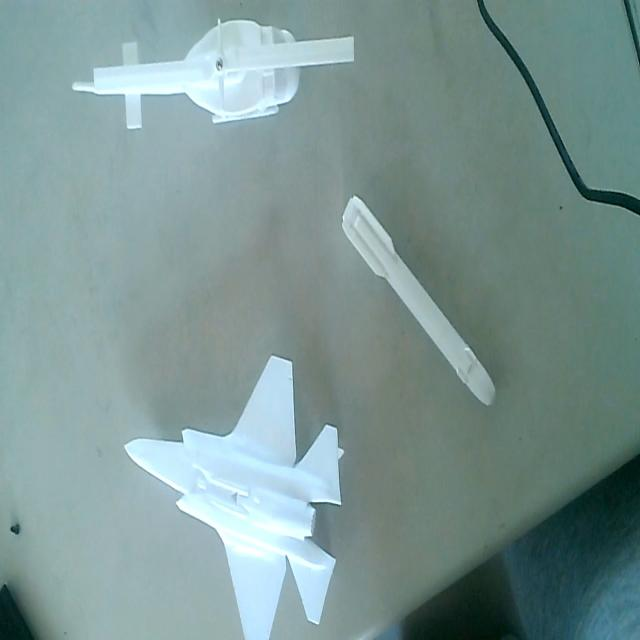Helicopter: (70, 17, 358, 128)
Jet: (123, 350, 347, 640)
Rocket: (338, 190, 498, 412)
